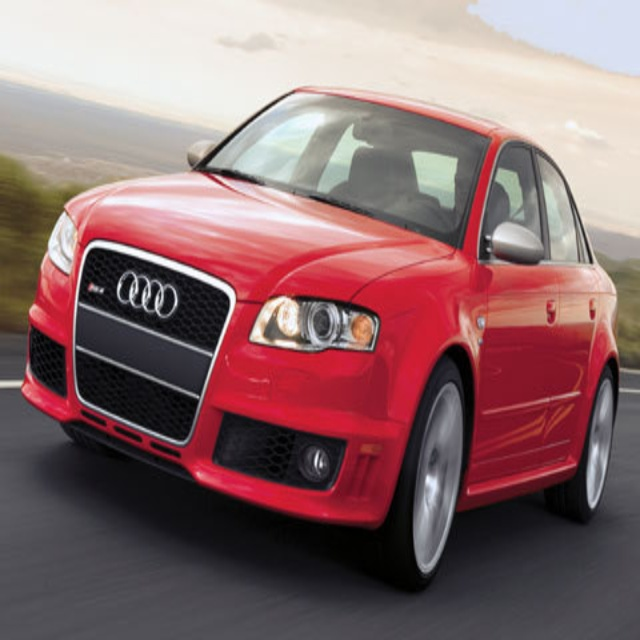Car: (20, 82, 621, 594)
